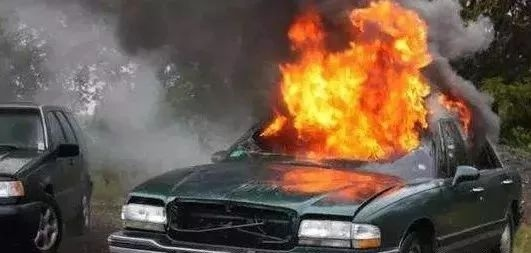fire: (266, 0, 436, 160)
